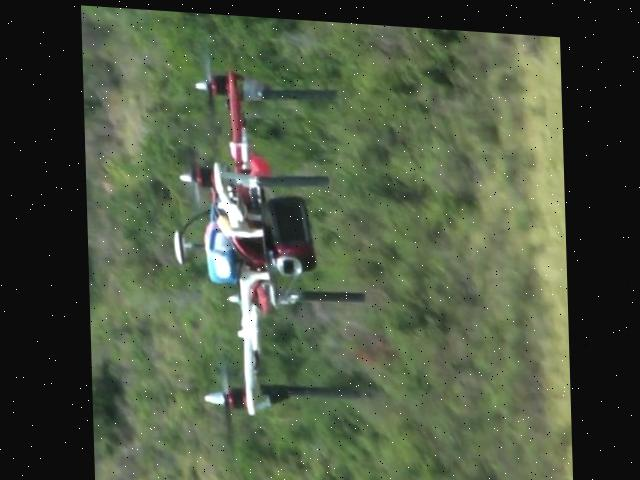drone: (116, 22, 400, 441)
